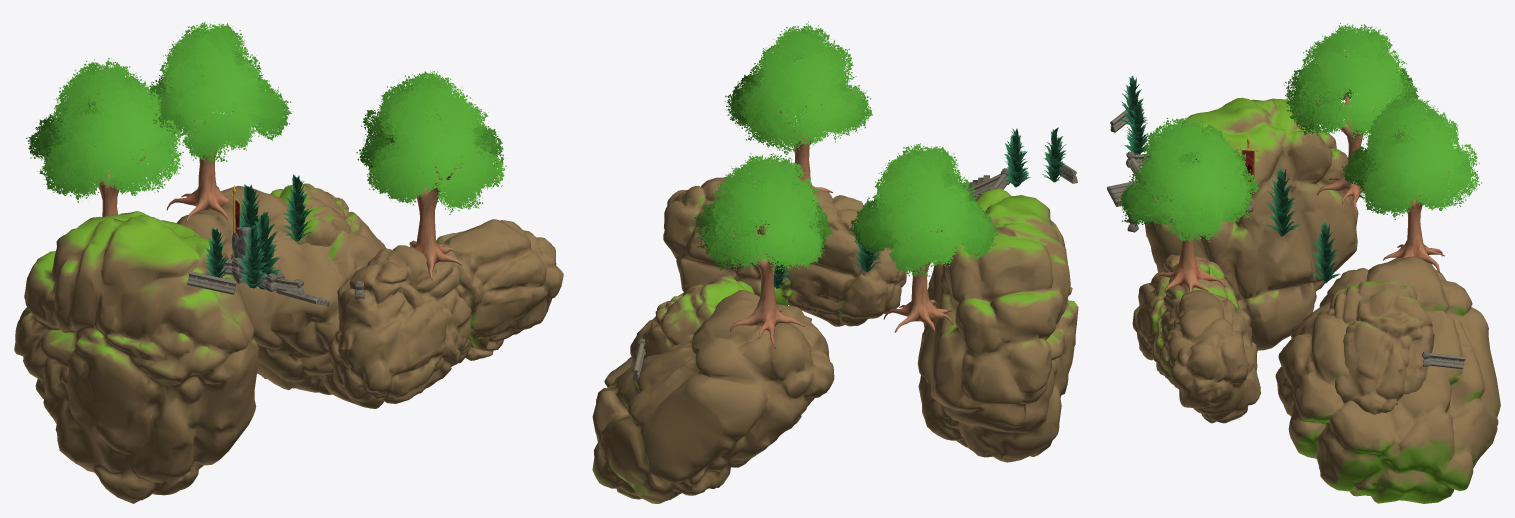
The model's file is cell_x1_z0_render.gltf.
3 views of the same model, side by side, from view 1: azimuth 30°, elevation 25°; view 2: azimuth 150°, elevation 25°; view 3: azimuth 270°, elevation 25° (orthographic). The views are drawn at different scales.
Parts seen in each view (by area): view 1: SM_ENV_cliff_castle_01_LOD0.034, SM_ENV_cliff_castle_01_LOD0.011, SM_ENV_tree_castle_01_LOD0.008, SM_ENV_tree_castle_01_LOD0.021, SM_ENV_cliff_castle_01_LOD0.017, SM_ENV_tree_castle_01_LOD0.033, SM_ENV_cliff_castle_01_LOD0.024, SM_ENV_cliff_castle_01_LOD0.001, SM_ENV_tree_castle_02_LOD0.013, SM_ENV_tree_castle_02_LOD0.001, SM_ENV_tree_castle_02_LOD0.015, SM_ENV_tree_castle_02_LOD0.004 (+2 smaller); view 2: SM_ENV_cliff_castle_01_LOD0.034, SM_ENV_cliff_castle_01_LOD0.017, SM_ENV_tree_castle_01_LOD0.021, SM_ENV_tree_castle_01_LOD0.033, SM_ENV_tree_castle_01_LOD0.008, SM_ENV_cliff_castle_01_LOD0.011, SM_ENV_cliff_castle_01_LOD0.024, SM_ENV_cliff_castle_01_LOD0.001, SM_ENV_tree_castle_02_LOD0.001, SM_ENV_tree_castle_02_LOD0.004; view 3: SM_ENV_cliff_castle_01_LOD0.017, SM_ENV_cliff_castle_01_LOD0.034, SM_ENV_tree_castle_01_LOD0.008, SM_ENV_tree_castle_01_LOD0.033, SM_ENV_tree_castle_01_LOD0.021, SM_ENV_cliff_castle_01_LOD0.001, SM_ENV_cliff_castle_01_LOD0.024, SM_ENV_cliff_castle_01_LOD0.011, SM_ENV_tree_castle_02_LOD0.008, SM_ENV_tree_castle_02_LOD0.013, SM_ENV_tree_castle_02_LOD0.001, SM_ENV_tree_castle_02_LOD0.004 (+1 smaller).
Boxes of the visible parts, x1,y1,x2,y2 form: SM_ENV_cliff_castle_01_LOD0.034: [14, 211, 258, 503]; SM_ENV_cliff_castle_01_LOD0.011: [328, 245, 471, 403]; SM_ENV_tree_castle_01_LOD0.008: [356, 69, 506, 280]; SM_ENV_tree_castle_01_LOD0.021: [26, 58, 183, 216]; SM_ENV_cliff_castle_01_LOD0.017: [176, 186, 383, 408]; SM_ENV_tree_castle_01_LOD0.033: [146, 21, 292, 223]; SM_ENV_cliff_castle_01_LOD0.024: [436, 219, 563, 363]; SM_ENV_cliff_castle_01_LOD0.001: [270, 183, 385, 261]; SM_ENV_tree_castle_02_LOD0.013: [282, 174, 312, 242]; SM_ENV_tree_castle_02_LOD0.001: [238, 225, 267, 288]; SM_ENV_tree_castle_02_LOD0.015: [245, 211, 281, 289]; SM_ENV_tree_castle_02_LOD0.004: [203, 227, 230, 282]; SM_ENV_cliff_castle_01_LOD0.034: [917, 188, 1078, 462]; SM_ENV_cliff_castle_01_LOD0.017: [592, 290, 834, 503]; SM_ENV_tree_castle_01_LOD0.021: [849, 143, 999, 332]; SM_ENV_tree_castle_01_LOD0.033: [694, 153, 835, 348]; SM_ENV_tree_castle_01_LOD0.008: [725, 21, 873, 192]; SM_ENV_cliff_castle_01_LOD0.011: [783, 188, 906, 326]; SM_ENV_cliff_castle_01_LOD0.024: [663, 177, 793, 305]; SM_ENV_cliff_castle_01_LOD0.001: [630, 275, 754, 366]; SM_ENV_tree_castle_02_LOD0.001: [1003, 128, 1030, 187]; SM_ENV_tree_castle_02_LOD0.004: [1042, 127, 1066, 182]; SM_ENV_cliff_castle_01_LOD0.017: [1275, 256, 1500, 503]; SM_ENV_cliff_castle_01_LOD0.034: [1145, 97, 1358, 350]; SM_ENV_tree_castle_01_LOD0.008: [1117, 117, 1259, 292]; SM_ENV_tree_castle_01_LOD0.033: [1342, 94, 1482, 273]; SM_ENV_tree_castle_01_LOD0.021: [1284, 23, 1419, 214]; SM_ENV_cliff_castle_01_LOD0.001: [1317, 280, 1434, 414]; SM_ENV_cliff_castle_01_LOD0.024: [1166, 289, 1260, 423]; SM_ENV_cliff_castle_01_LOD0.011: [1132, 254, 1239, 384]; SM_ENV_tree_castle_02_LOD0.008: [1263, 167, 1300, 236]; SM_ENV_tree_castle_02_LOD0.013: [1309, 222, 1340, 283]; SM_ENV_tree_castle_02_LOD0.001: [1124, 103, 1148, 154]; SM_ENV_tree_castle_02_LOD0.004: [1120, 75, 1147, 126].
Bounding box in the file's own units: 45.44 × 39.36 × 37.41.
Materials: 9 (8 with a texture image).
